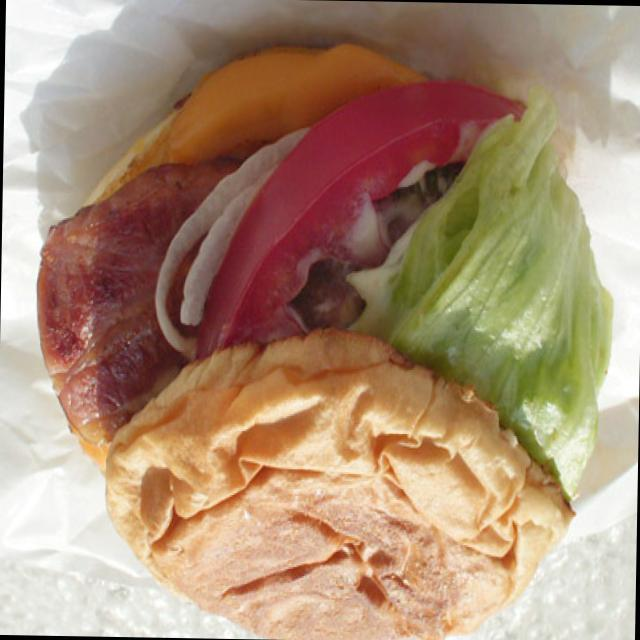Hamburger: (25, 25, 621, 640)
